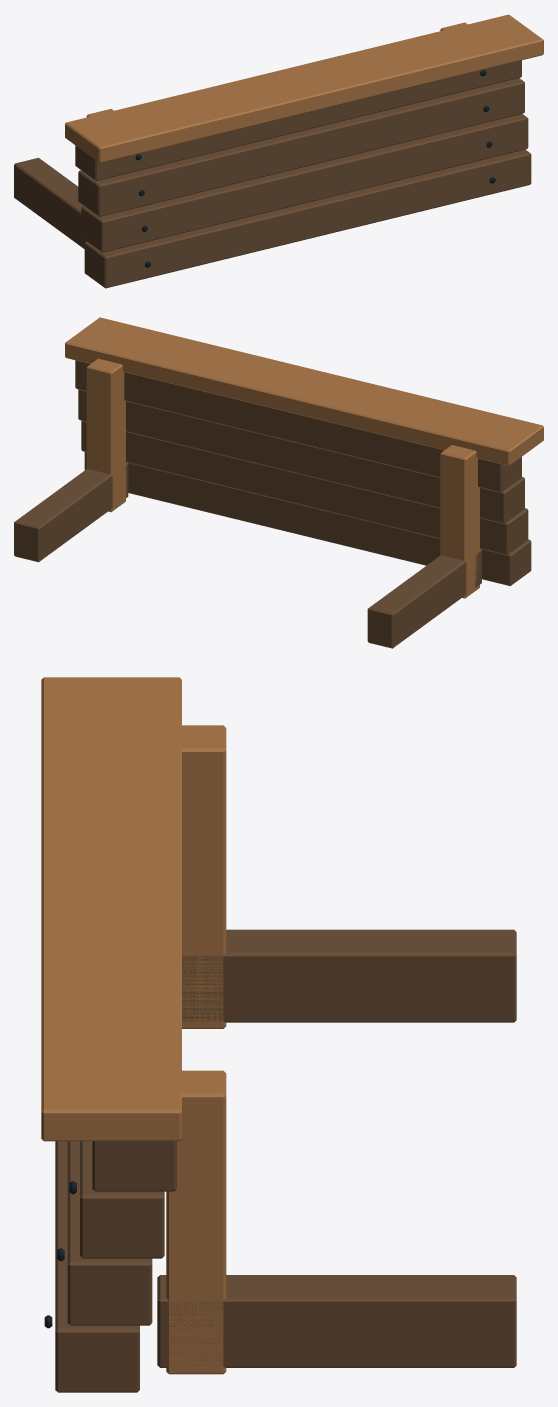
The model's file is b19_timber_sleeper_retaining_wall.glb.
3 renders of one model, top to bottom at view 1: azimuth 30°, elevation 25°; view 2: azimuth 150°, elevation 25°; view 3: azimuth 270°, elevation 25°, orthographic. The views are drawn at different scales.
Parts seen in each view (by area): view 1: b19_timber_sleeper_retaining_wall; view 2: b19_timber_sleeper_retaining_wall; view 3: b19_timber_sleeper_retaining_wall.
Boxes of the visible parts, x1,y1,x2,y2 form: b19_timber_sleeper_retaining_wall: (14, 14, 543, 288); b19_timber_sleeper_retaining_wall: (14, 317, 543, 648); b19_timber_sleeper_retaining_wall: (41, 677, 516, 1392).
Size of the model in its own units: 2.92 by 0.93 by 1.35.
